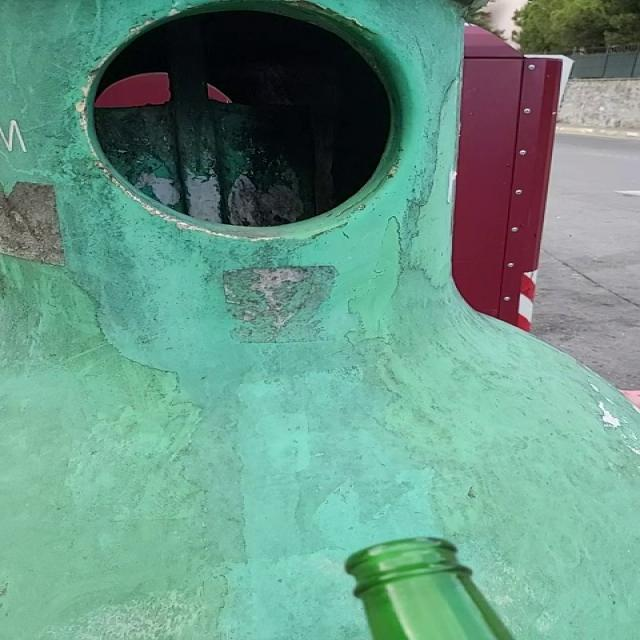Glass: (347, 539, 513, 640)
